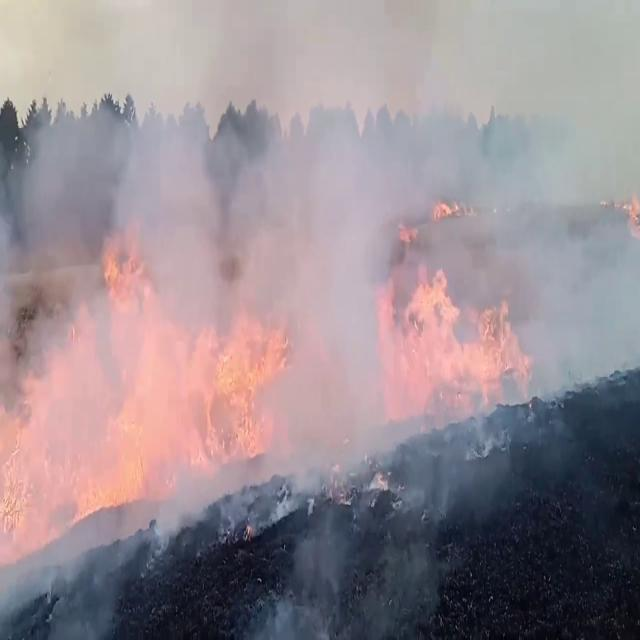Fire: (39, 194, 304, 530), (391, 252, 542, 442)
Smoke: (1, 17, 568, 480), (252, 492, 374, 640)
